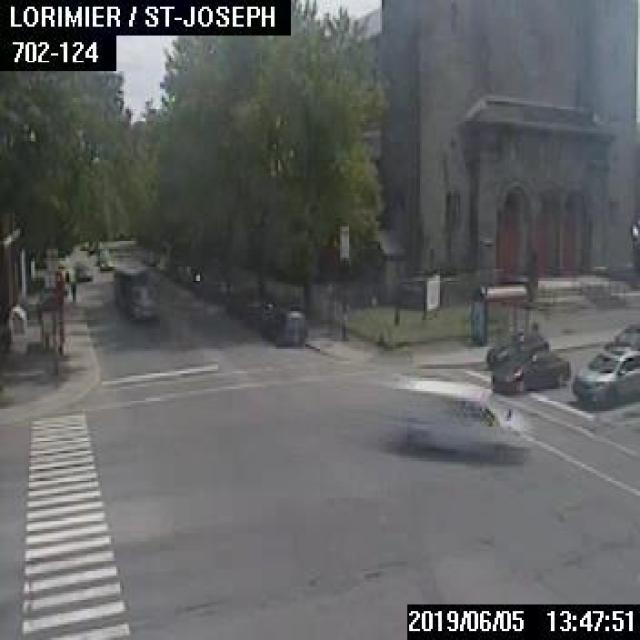vehicle: (390, 378, 525, 453), (571, 346, 638, 404), (491, 350, 569, 390), (111, 264, 158, 321), (485, 332, 548, 365), (257, 306, 304, 346), (604, 322, 638, 351), (74, 264, 92, 278), (99, 256, 112, 268)
